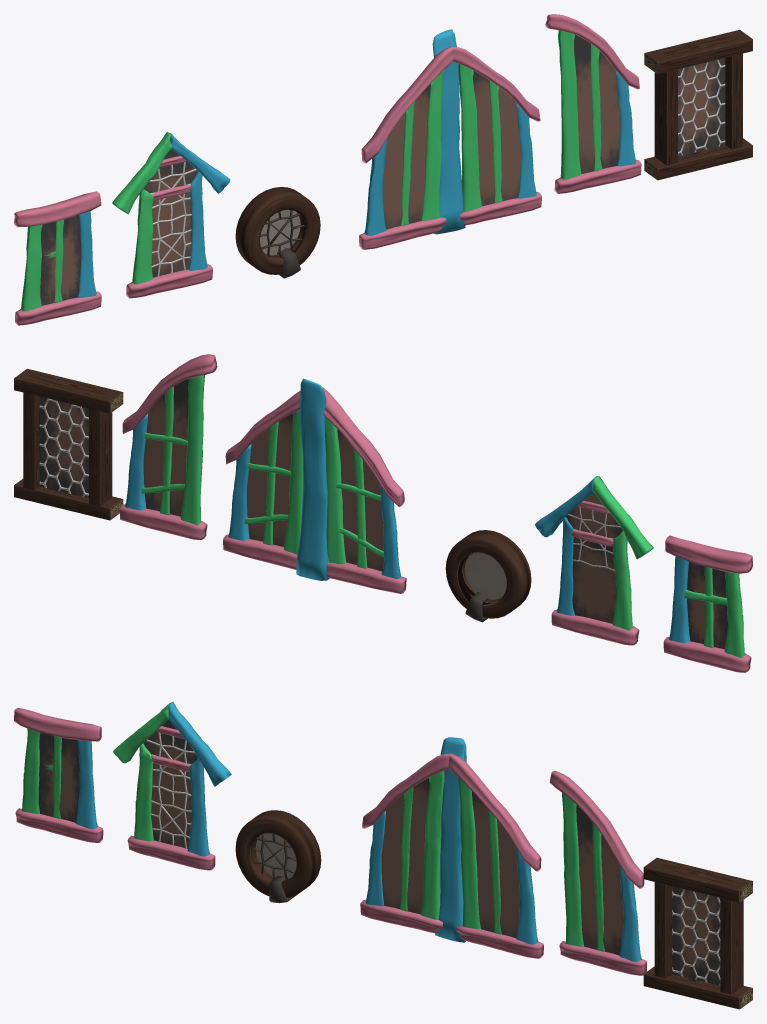
Rendered from Windows.fbx.
3 views of the same model, one above another, from view 1: azimuth 30°, elevation 25°; view 2: azimuth 150°, elevation 25°; view 3: azimuth 330°, elevation 25° (orthographic).
Visible parts, largest first — view 1: Window_lar, Window_Square1, Window_Lar, Window_S1, Wndow_Square, Circle_window; view 2: Window_lar, Window_Square1, Window_Lar, Window_S1, Wndow_Square, Circle_window; view 3: Window_lar, Window_Square1, Window_Lar, Window_S1, Wndow_Square, Circle_window.
Part boxes in pixels (bbox=[...]): Window_lar: bbox=[359, 29, 541, 249]; Window_Square1: bbox=[644, 30, 752, 180]; Window_Lar: bbox=[545, 14, 641, 193]; Window_S1: bbox=[112, 131, 230, 298]; Wndow_Square: bbox=[14, 191, 101, 325]; Circle_window: bbox=[235, 187, 320, 278]; Window_lar: bbox=[223, 378, 406, 593]; Window_Square1: bbox=[14, 368, 123, 520]; Window_Lar: bbox=[120, 354, 217, 539]; Window_S1: bbox=[535, 476, 653, 645]; Wndow_Square: bbox=[663, 535, 752, 672]; Circle_window: bbox=[445, 530, 531, 622]; Window_lar: bbox=[360, 737, 543, 958]; Window_Square1: bbox=[643, 857, 752, 1009]; Window_Lar: bbox=[549, 770, 646, 975]; Window_S1: bbox=[113, 701, 231, 870]; Wndow_Square: bbox=[14, 708, 103, 842]; Circle_window: bbox=[235, 810, 321, 903].
Bounding box in the file's own units: 799 × 207 × 32.43.
